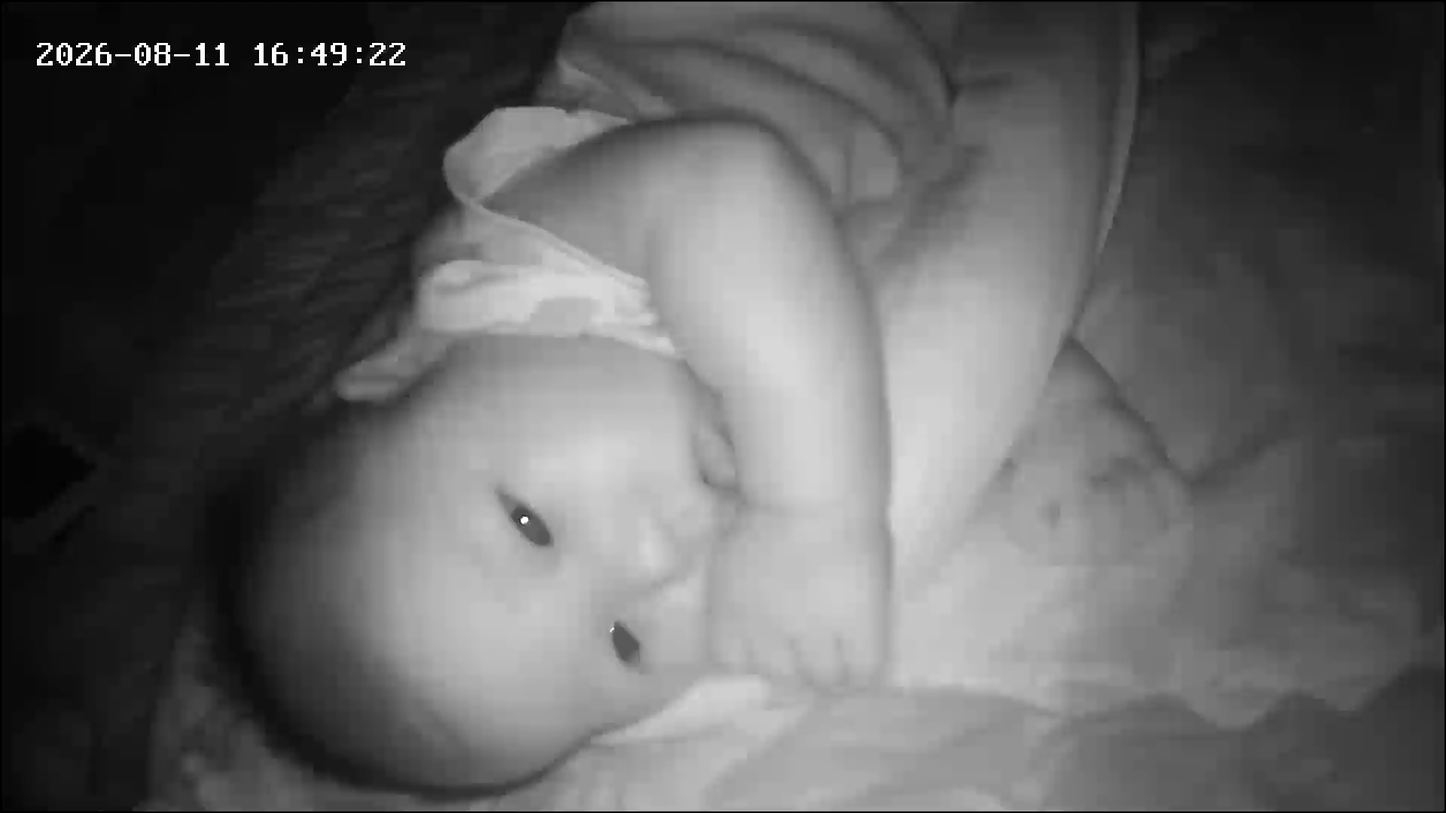baby: (188, 8, 917, 810)
baby_face: (192, 320, 772, 808)
